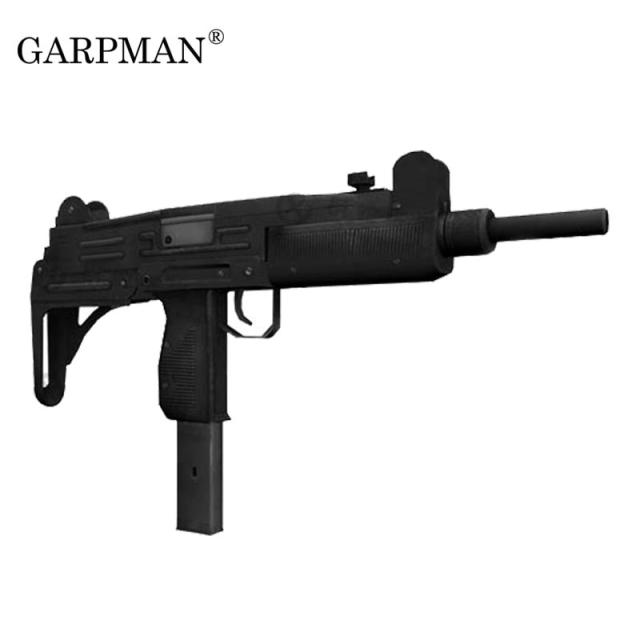SMG: (29, 150, 611, 538)
